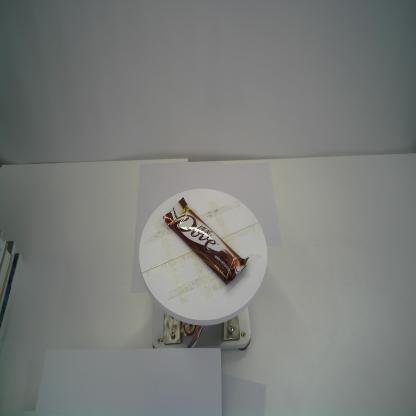Chocolate: (161, 196, 250, 287)
